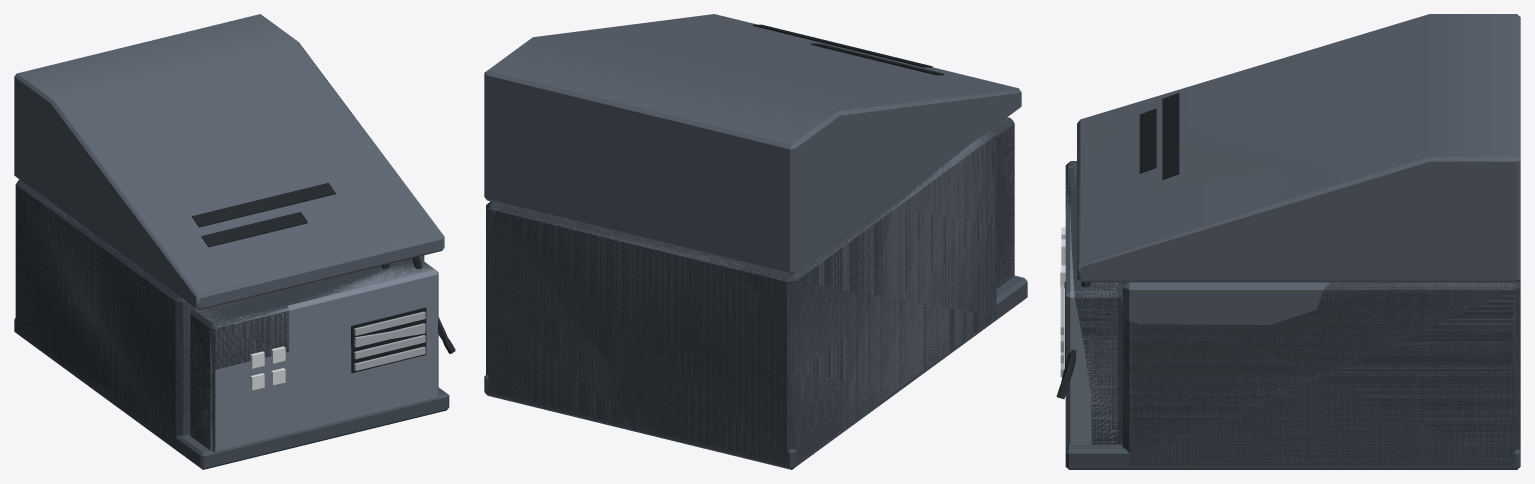
The model's file is shr_cmp_control_module_a.glb.
3 renders of one model, left to right at view 1: azimuth 30°, elevation 25°; view 2: azimuth 150°, elevation 25°; view 3: azimuth 270°, elevation 25°, orthographic. The views are drawn at different scales.
Parts seen in each view (by area): view 1: mesh_heavy, mesh_intact, mesh_light; view 2: mesh_heavy, mesh_light, mesh_intact; view 3: mesh_heavy, mesh_intact, mesh_light.
Part boxes in pixels (x1,y1,x2,y2): mesh_heavy: (14,14,455,469); mesh_intact: (55,42,444,452); mesh_light: (14,180,447,468); mesh_heavy: (484,24,1027,469); mesh_light: (485,130,1027,469); mesh_intact: (536,14,1016,288); mesh_heavy: (1056,14,1520,469); mesh_intact: (1060,15,1516,465); mesh_light: (1066,281,1520,469).
Bounding box in the file's own units: 0.6064 × 0.6 × 0.8064.
